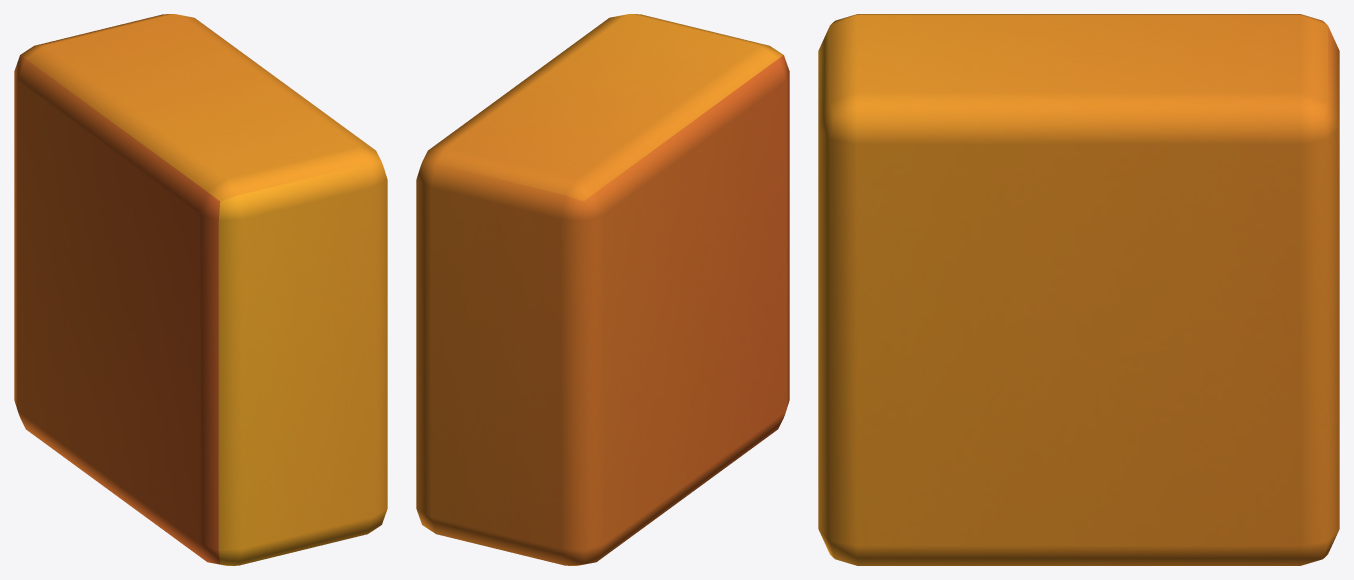
Rendered from BlockSlabOrange.fbx.
The picture shows the model from 3 angles, left to right: view 1: azimuth 30°, elevation 25°; view 2: azimuth 150°, elevation 25°; view 3: azimuth 270°, elevation 25°; orthographic projection. The views are drawn at different scales.
Visible parts, largest first — view 1: Cube.013; view 2: Cube.013; view 3: Cube.013.
Boxes of the visible parts, x1,y1,x2,y2 form: Cube.013: (14, 14, 387, 565); Cube.013: (416, 14, 789, 565); Cube.013: (818, 14, 1339, 565).
Bounding box in the file's own units: 100 × 200 × 200.
